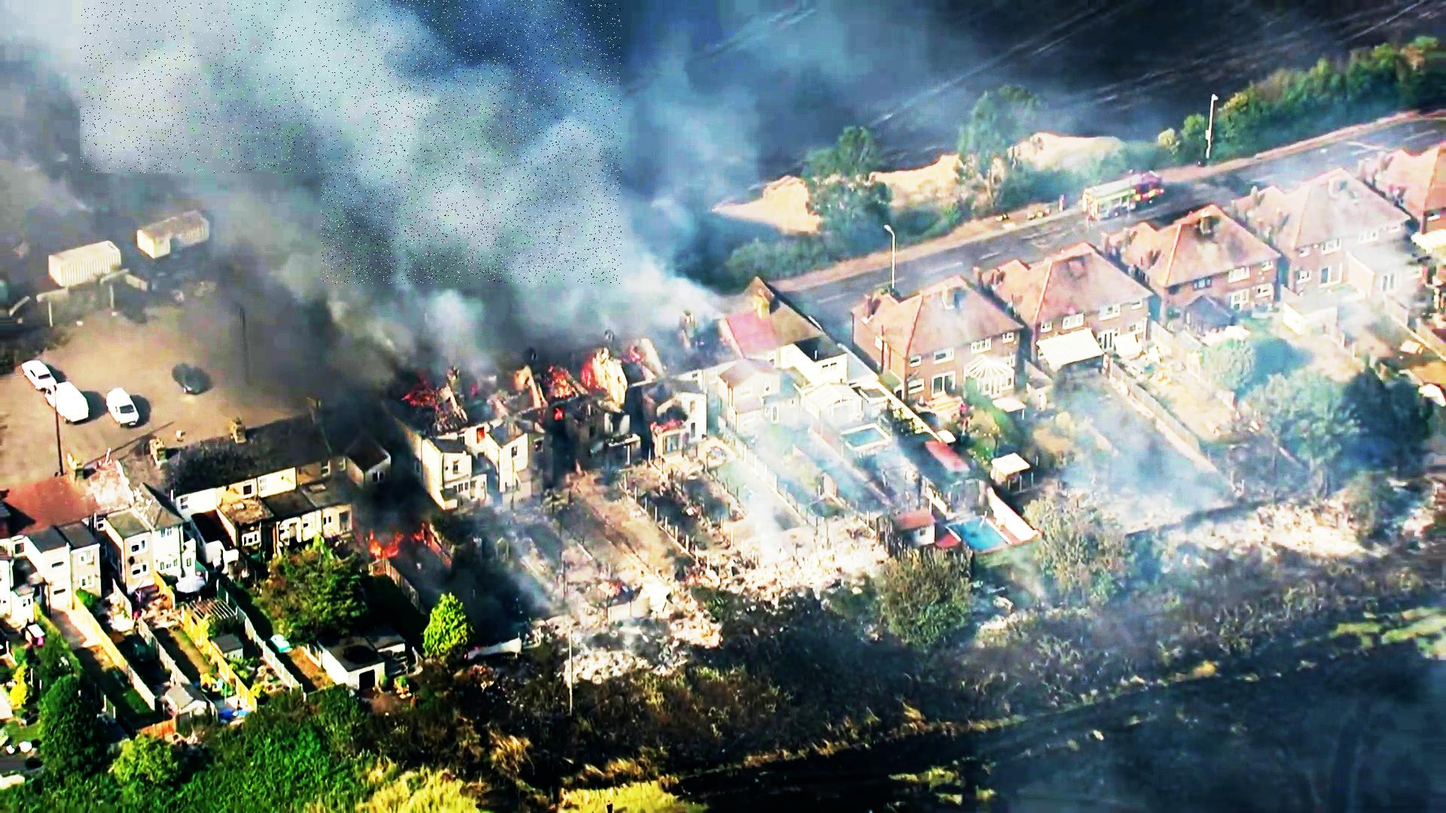smoke: (321, 1, 622, 284), (81, 0, 373, 173)
